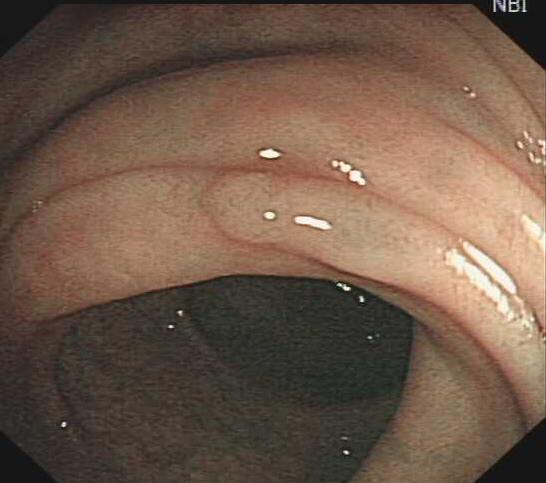others: (197, 166, 295, 245)
